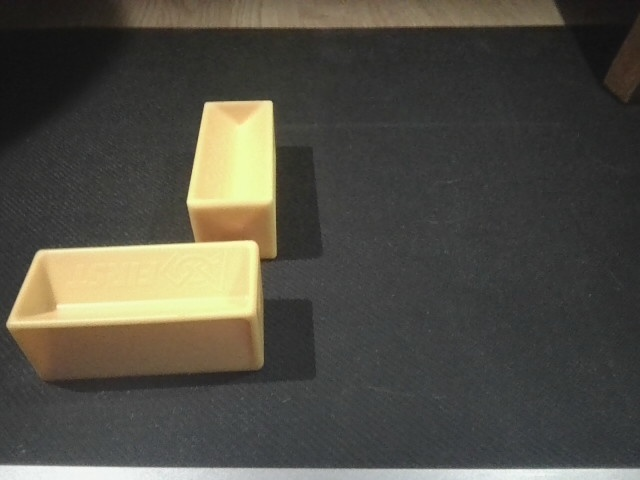YellowSample: (8, 238, 271, 383), (184, 97, 279, 263)
